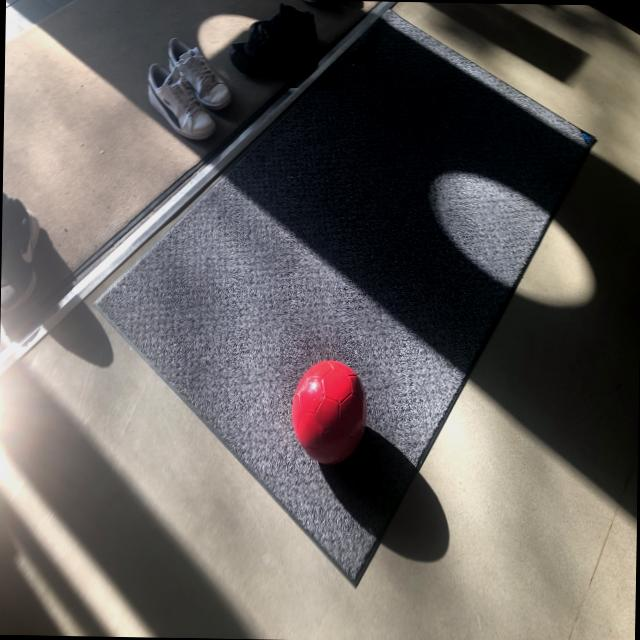red_ball: (290, 360, 366, 462)
